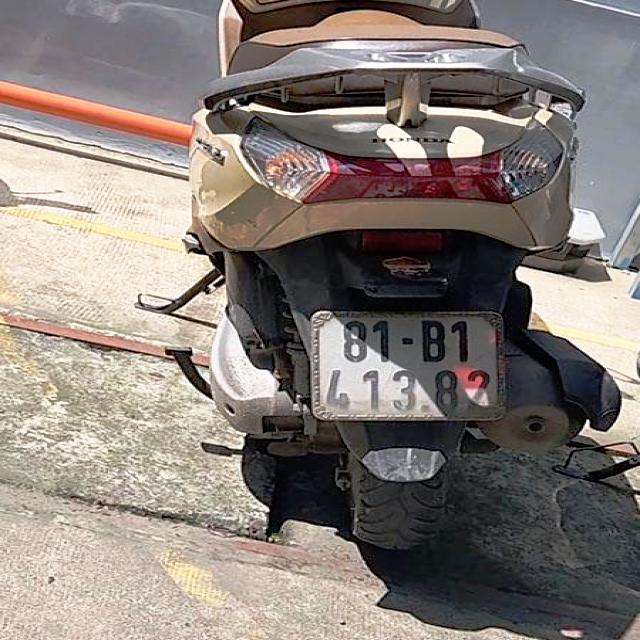license_plate: (315, 313, 507, 421)
